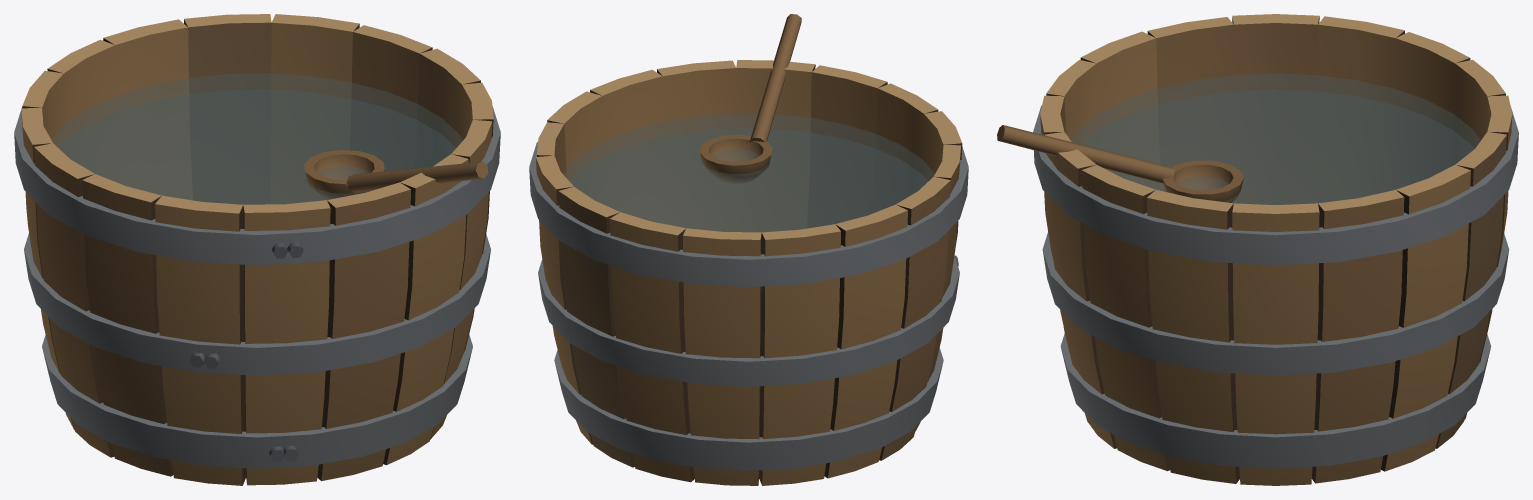
File: SM_LPD_Crate_BarrelHalf_01.fbx
The picture shows the model from 3 angles, left to right: view 1: azimuth 30°, elevation 25°; view 2: azimuth 150°, elevation 25°; view 3: azimuth 270°, elevation 25°; orthographic projection. The views are drawn at different scales.
Parts seen in each view (by area): view 1: SM_LPD_Crate_BarrelHalf_01; view 2: SM_LPD_Crate_BarrelHalf_01; view 3: SM_LPD_Crate_BarrelHalf_01.
Boxes of the visible parts, x1,y1,x2,y2 form: SM_LPD_Crate_BarrelHalf_01: [14, 14, 500, 485]; SM_LPD_Crate_BarrelHalf_01: [529, 14, 968, 485]; SM_LPD_Crate_BarrelHalf_01: [997, 14, 1518, 485].
Bounding box in the file's own units: 0.6674 × 0.4853 × 0.7166.
